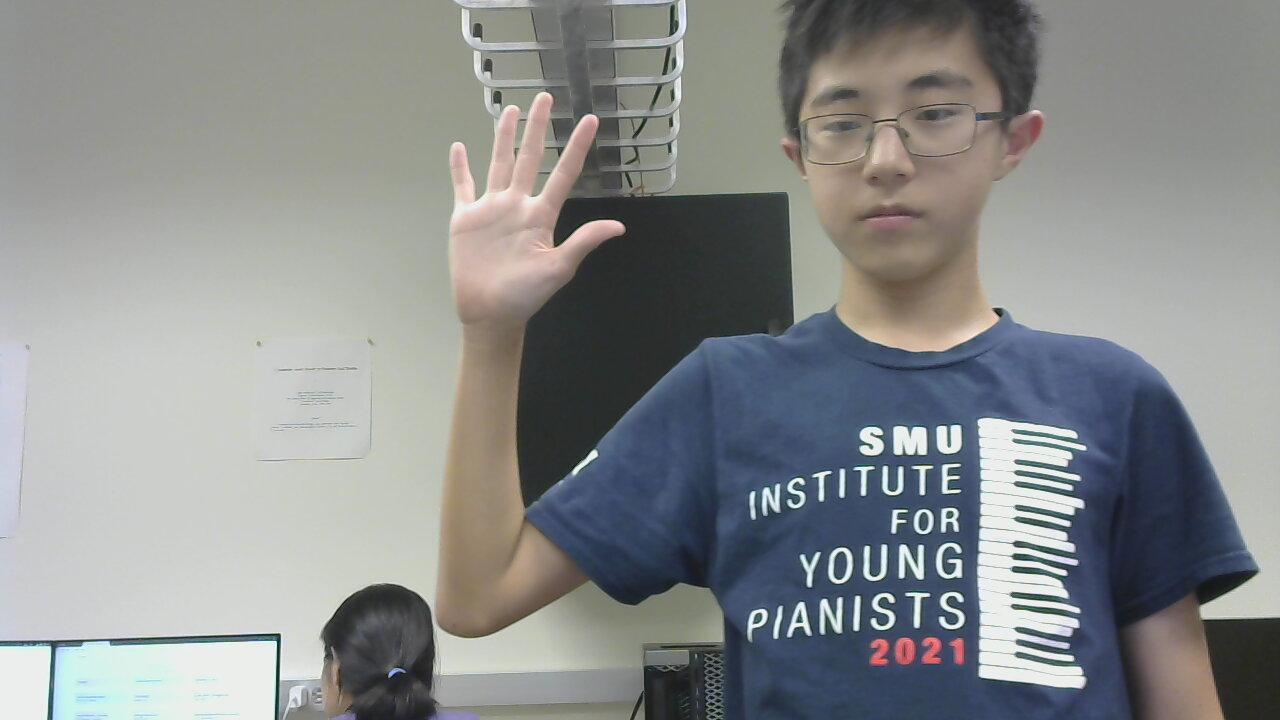hands: (451, 92, 642, 346)
